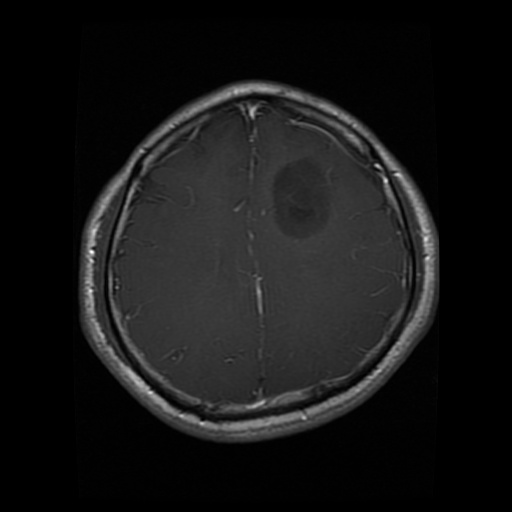glioma: (269, 157, 335, 239)
